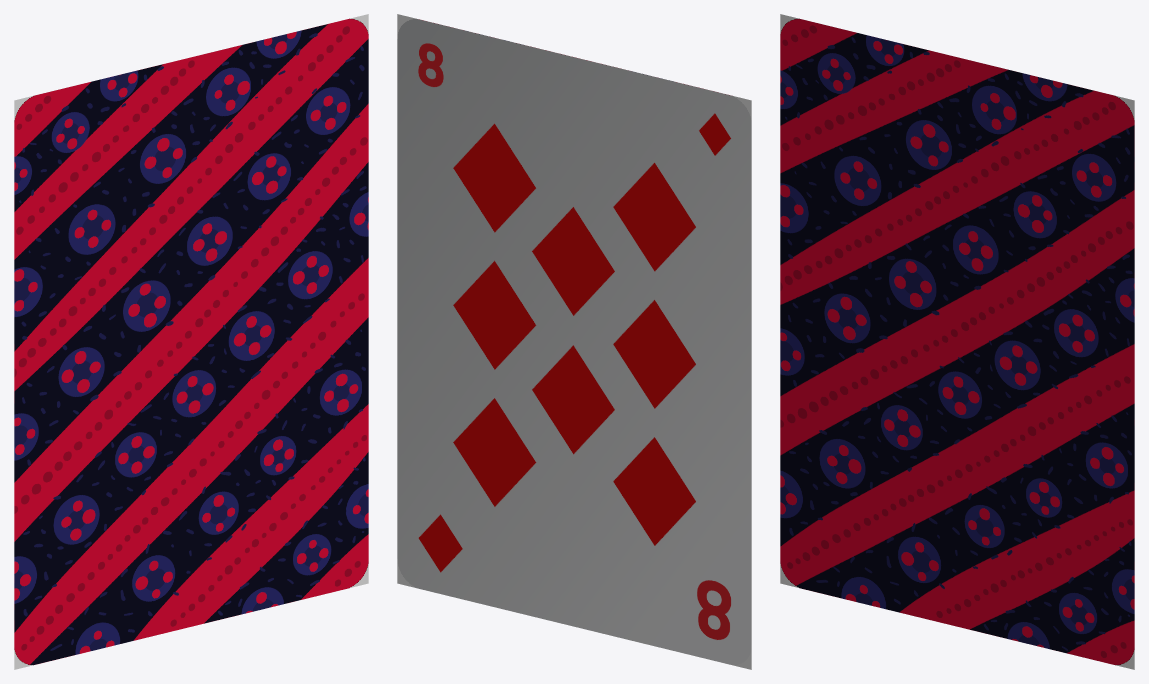
Rendered from 8 Diamonds.fbx.
3 renders of one model, left to right at view 1: azimuth 30°, elevation 25°; view 2: azimuth 150°, elevation 25°; view 3: azimuth 330°, elevation 25°, orthographic.
Visible parts, largest first — view 1: pPlane1; view 2: pPlane2; view 3: pPlane1.
Part boxes in pixels (x1=…): pPlane1: x1=14, y1=14, x2=368, y2=669; pPlane2: x1=397, y1=14, x2=751, y2=669; pPlane1: x1=780, y1=14, x2=1134, y2=669.
Bounding box in the file's own units: 2.15 × 3.3 × 0.001.
2 materials, 2 textured.
